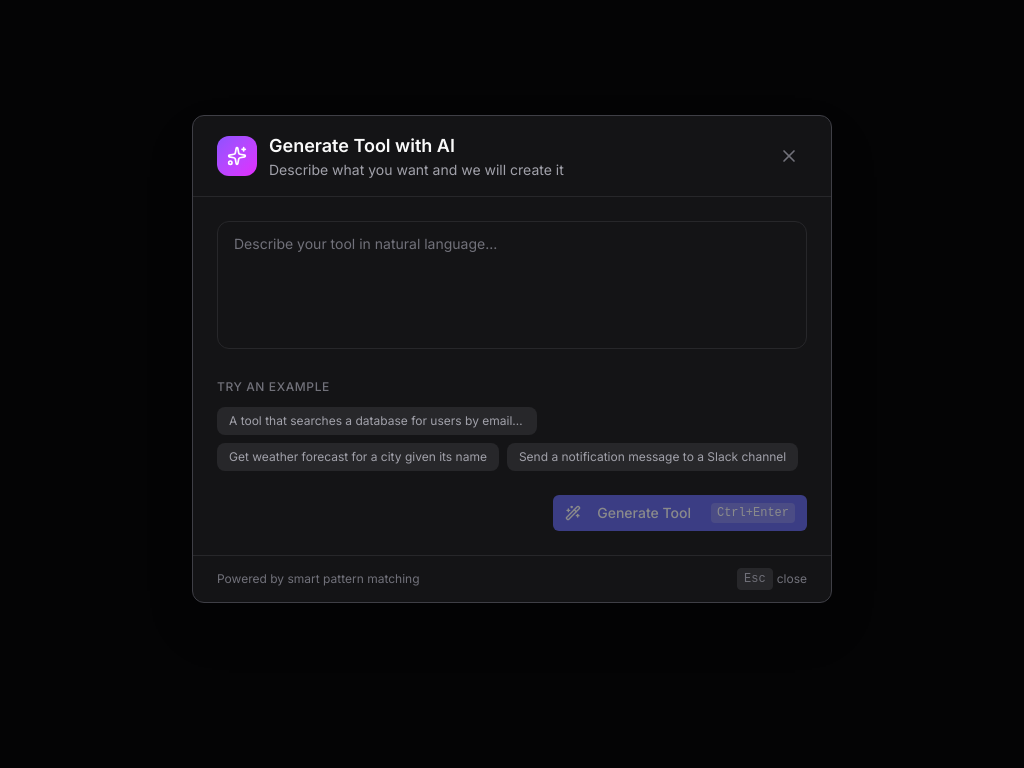
Test case: AIGenerator › Generate Button › Generate button is enabled when description is valid
The image size is (1024, 768).
Step 1. Type "A tool that searches for users" into the text box with placeholder "Describe your tool in natural language..." → (512, 285), box [217,221,807,349]
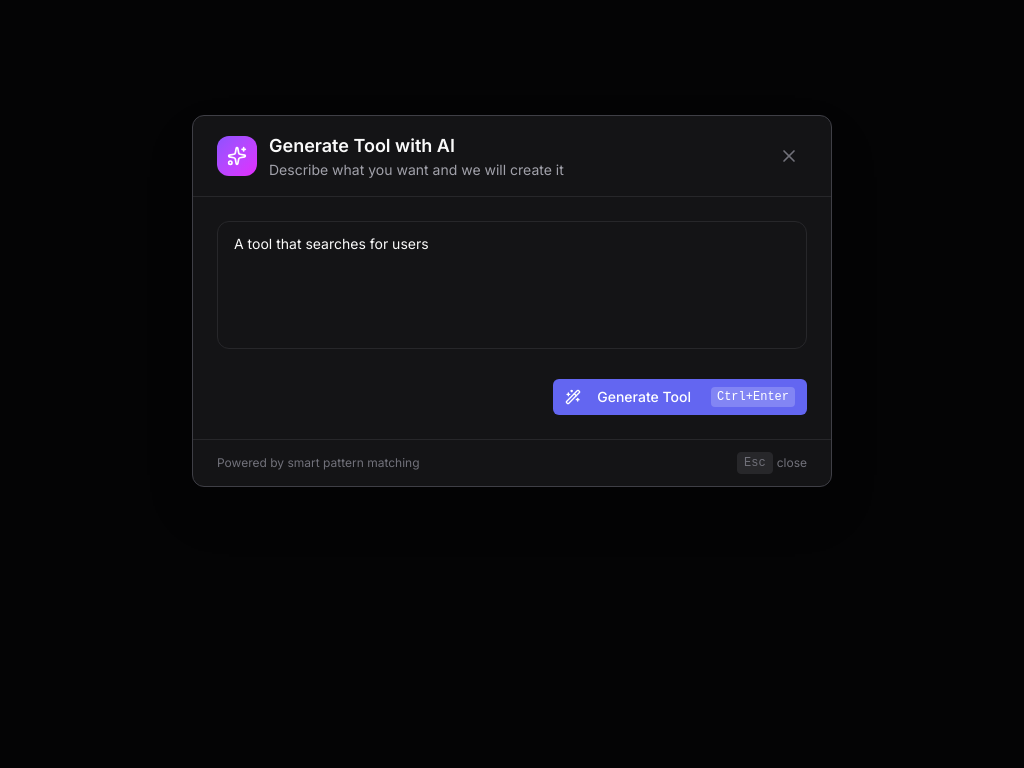
Expected: the button "Generate Tool Ctrl+Enter" is enabled, [553,379,807,415]
